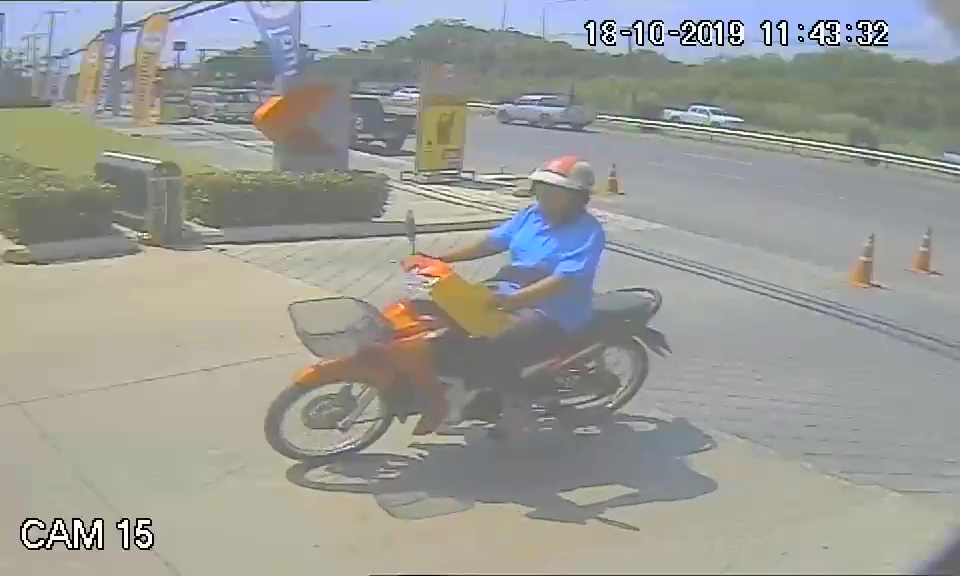motorcycle: (264, 252, 668, 462)
